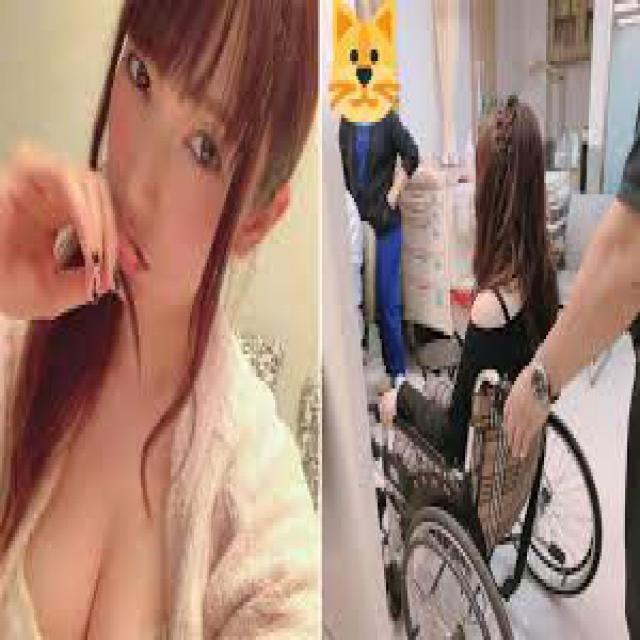wheelchairs: (372, 282, 614, 636)
